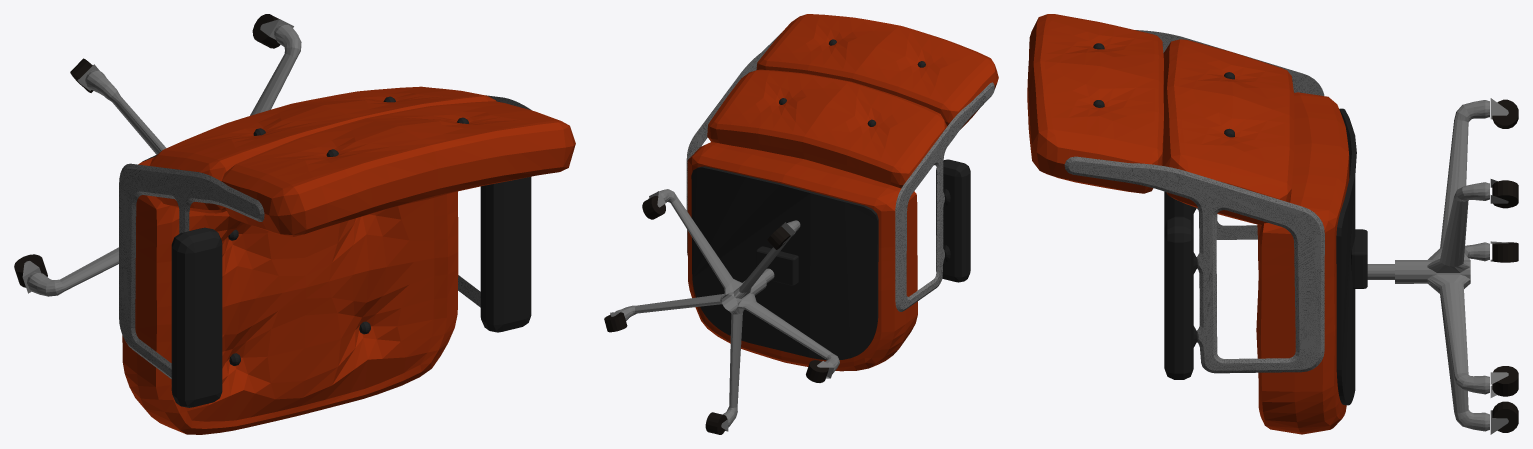
3 views of the same model, side by side, from view 1: azimuth 30°, elevation 25°; view 2: azimuth 150°, elevation 25°; view 3: azimuth 270°, elevation 25° (orthographic). The views are drawn at different scales.
Parts seen in each view (by area): view 1: eames desk chair; view 2: eames desk chair; view 3: eames desk chair.
Part boxes in pixels (x1=…): eames desk chair: x1=14, y1=14, x2=575, y2=434; eames desk chair: x1=604, y1=14, x2=998, y2=434; eames desk chair: x1=1027, y1=14, x2=1518, y2=434.
Size of the model in its own units: 27.51 by 30.52 by 37.07.
